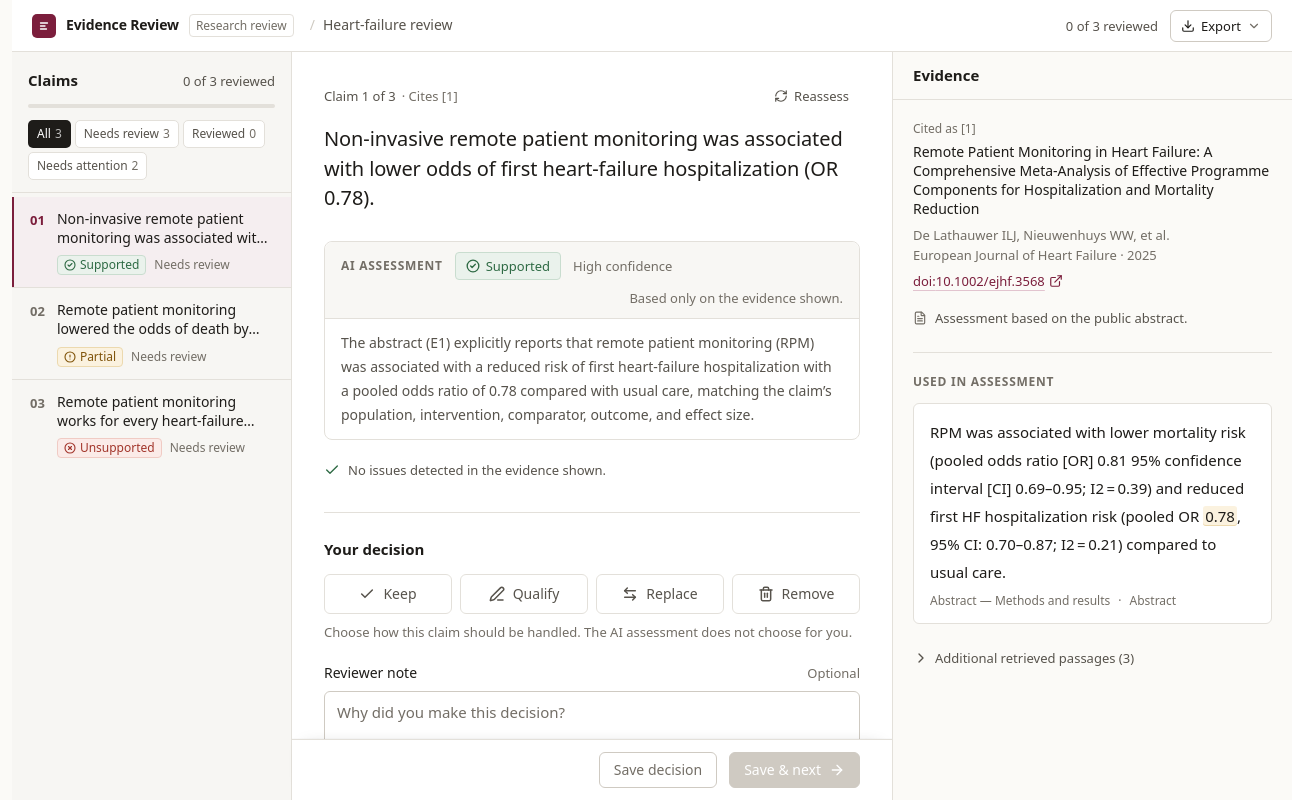
Test: Review workspace — navigation › filters claims without hiding unsupported ones
This screenshot has width=1292, height=800.
Expected: the heading "Claim 1 of 3" is shown, left=324, top=86, right=396, bottom=106
Click the button "Needs attention2" at (88, 166), box left=28, top=152, right=148, bottom=180
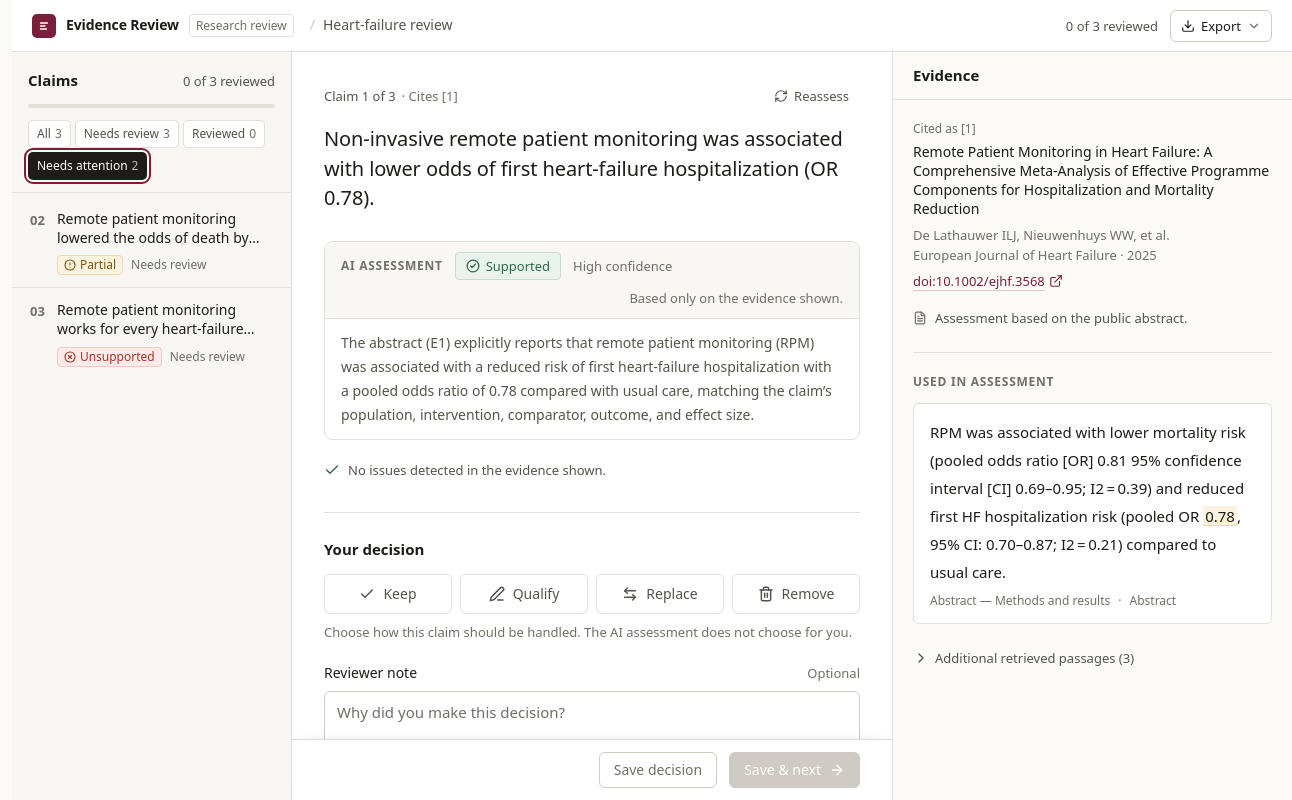
Click the button "Reviewed0" at (224, 134), box left=183, top=120, right=265, bottom=148
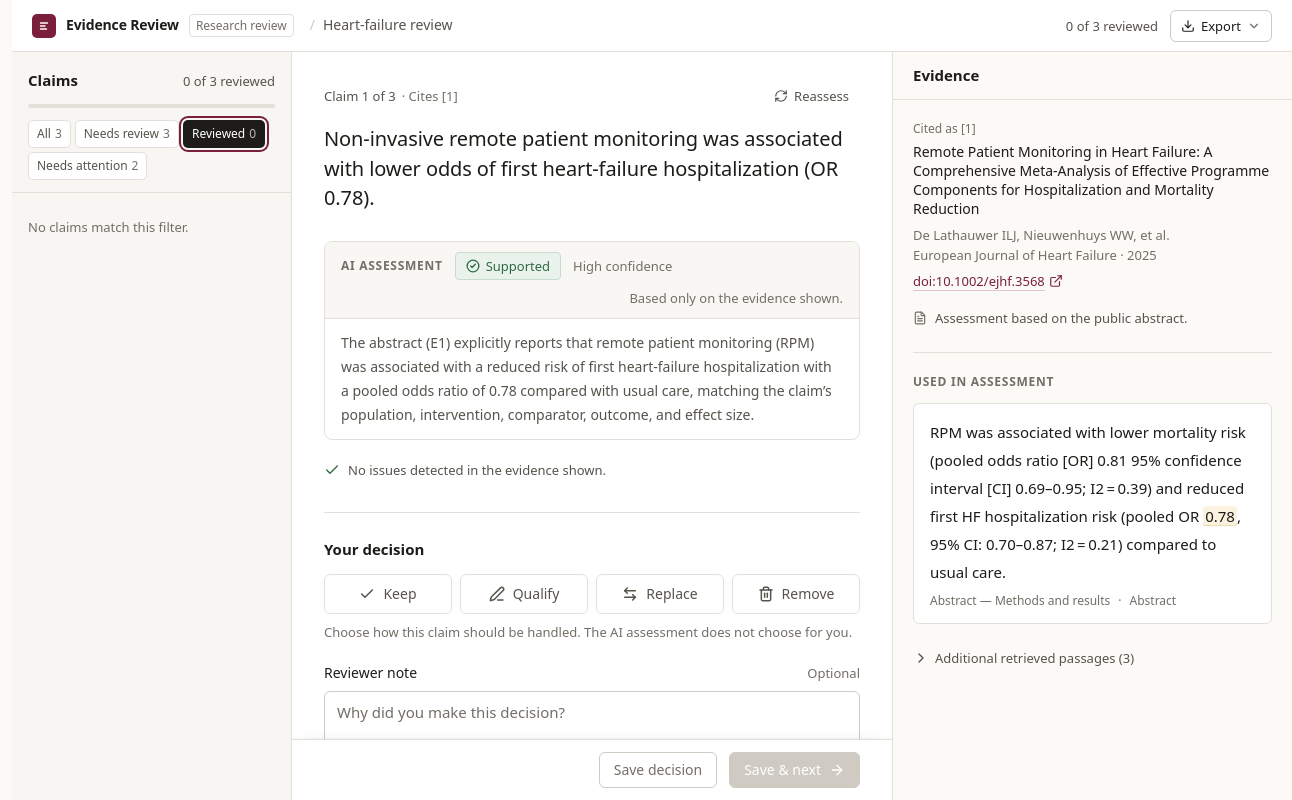
Expected: the text "No claims match this filter." is shown, left=28, top=218, right=189, bottom=236
